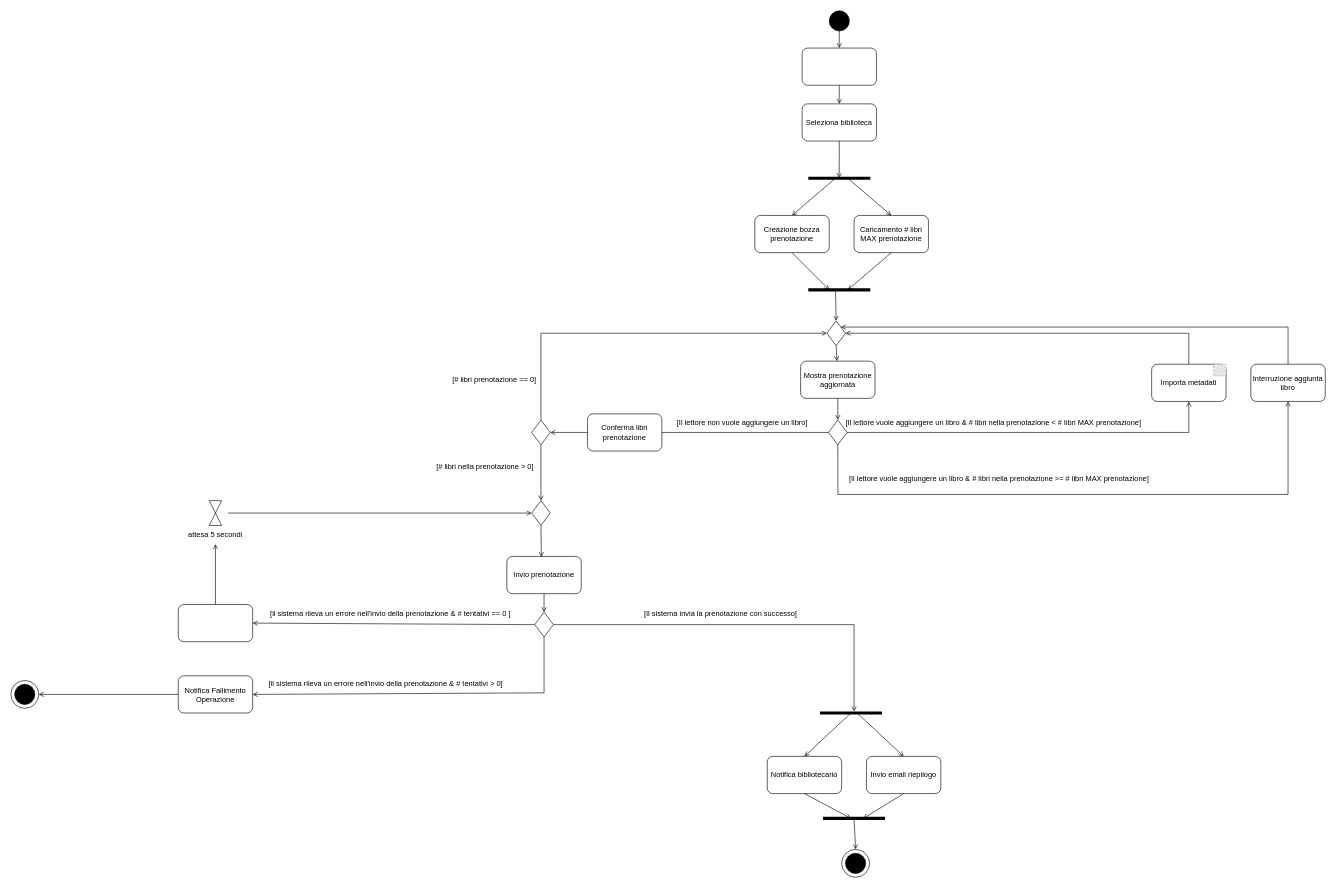
Image size: 1336x888. Some labels were removed from this diagram. Grey dashed boxes stand in for pictures. Here are the shapes that lost their labels. From the top down, the centre of each, then its label:
At pixel 838 66: "Richiedi al sistema creazione prenotazione".
At pixel 215 623: "Salvataggio bozza prenotazione".
